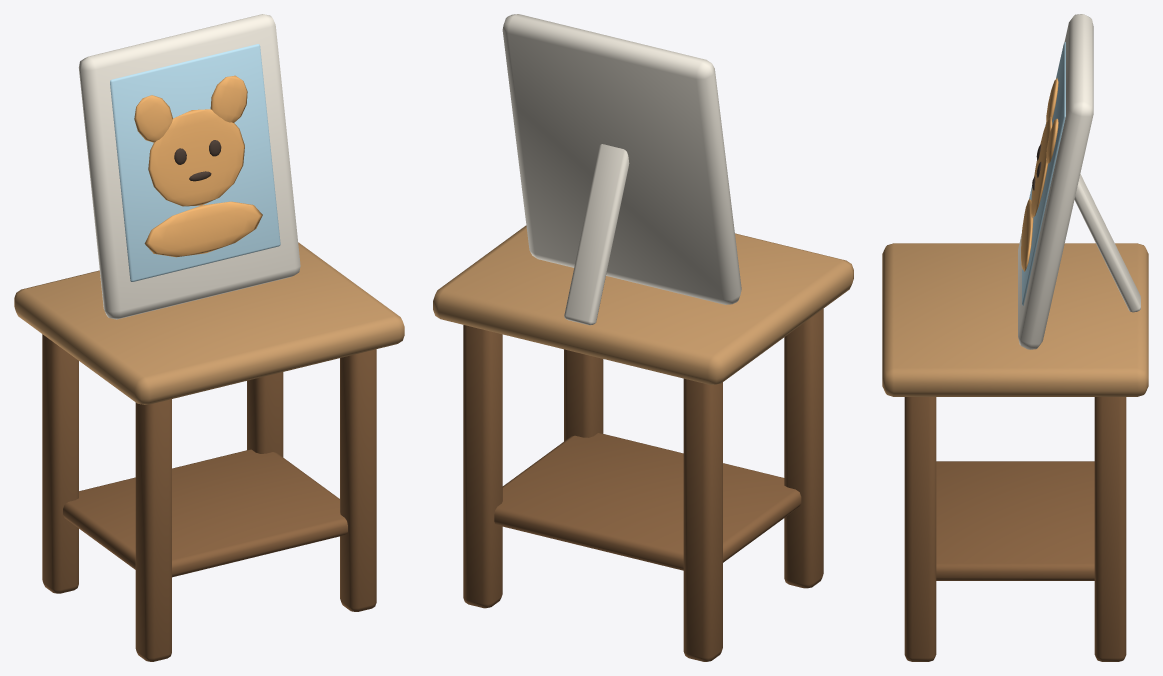
File: villager-photo.glb
3 views of the same model, side by side, from view 1: azimuth 30°, elevation 25°; view 2: azimuth 150°, elevation 25°; view 3: azimuth 270°, elevation 25° (orthographic). The views are drawn at different scales.
Visible parts, largest first — view 1: table, photo; view 2: table, photo; view 3: table, photo.
Part boxes in pixels (<box>): table: <box>14,242,404,661</box>; photo: <box>78,14,300,319</box>; table: <box>433,225,853,661</box>; photo: <box>502,14,741,325</box>; table: <box>882,243,1148,661</box>; photo: <box>1018,14,1140,349</box>.
Bounding box in the file's own units: 0.5 × 0.9566 × 0.42.
